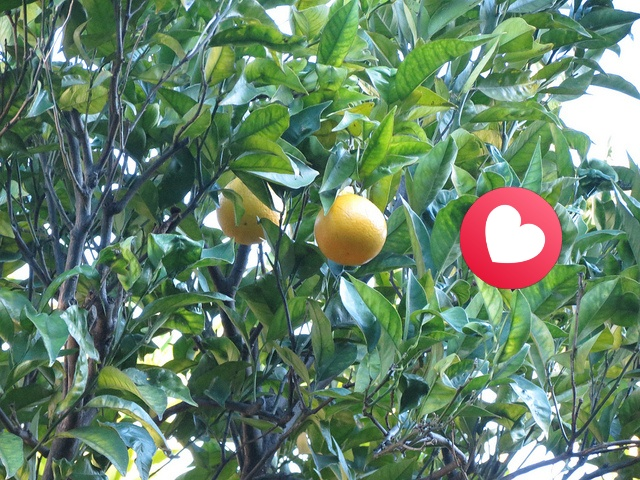love: (460, 187, 562, 289)
